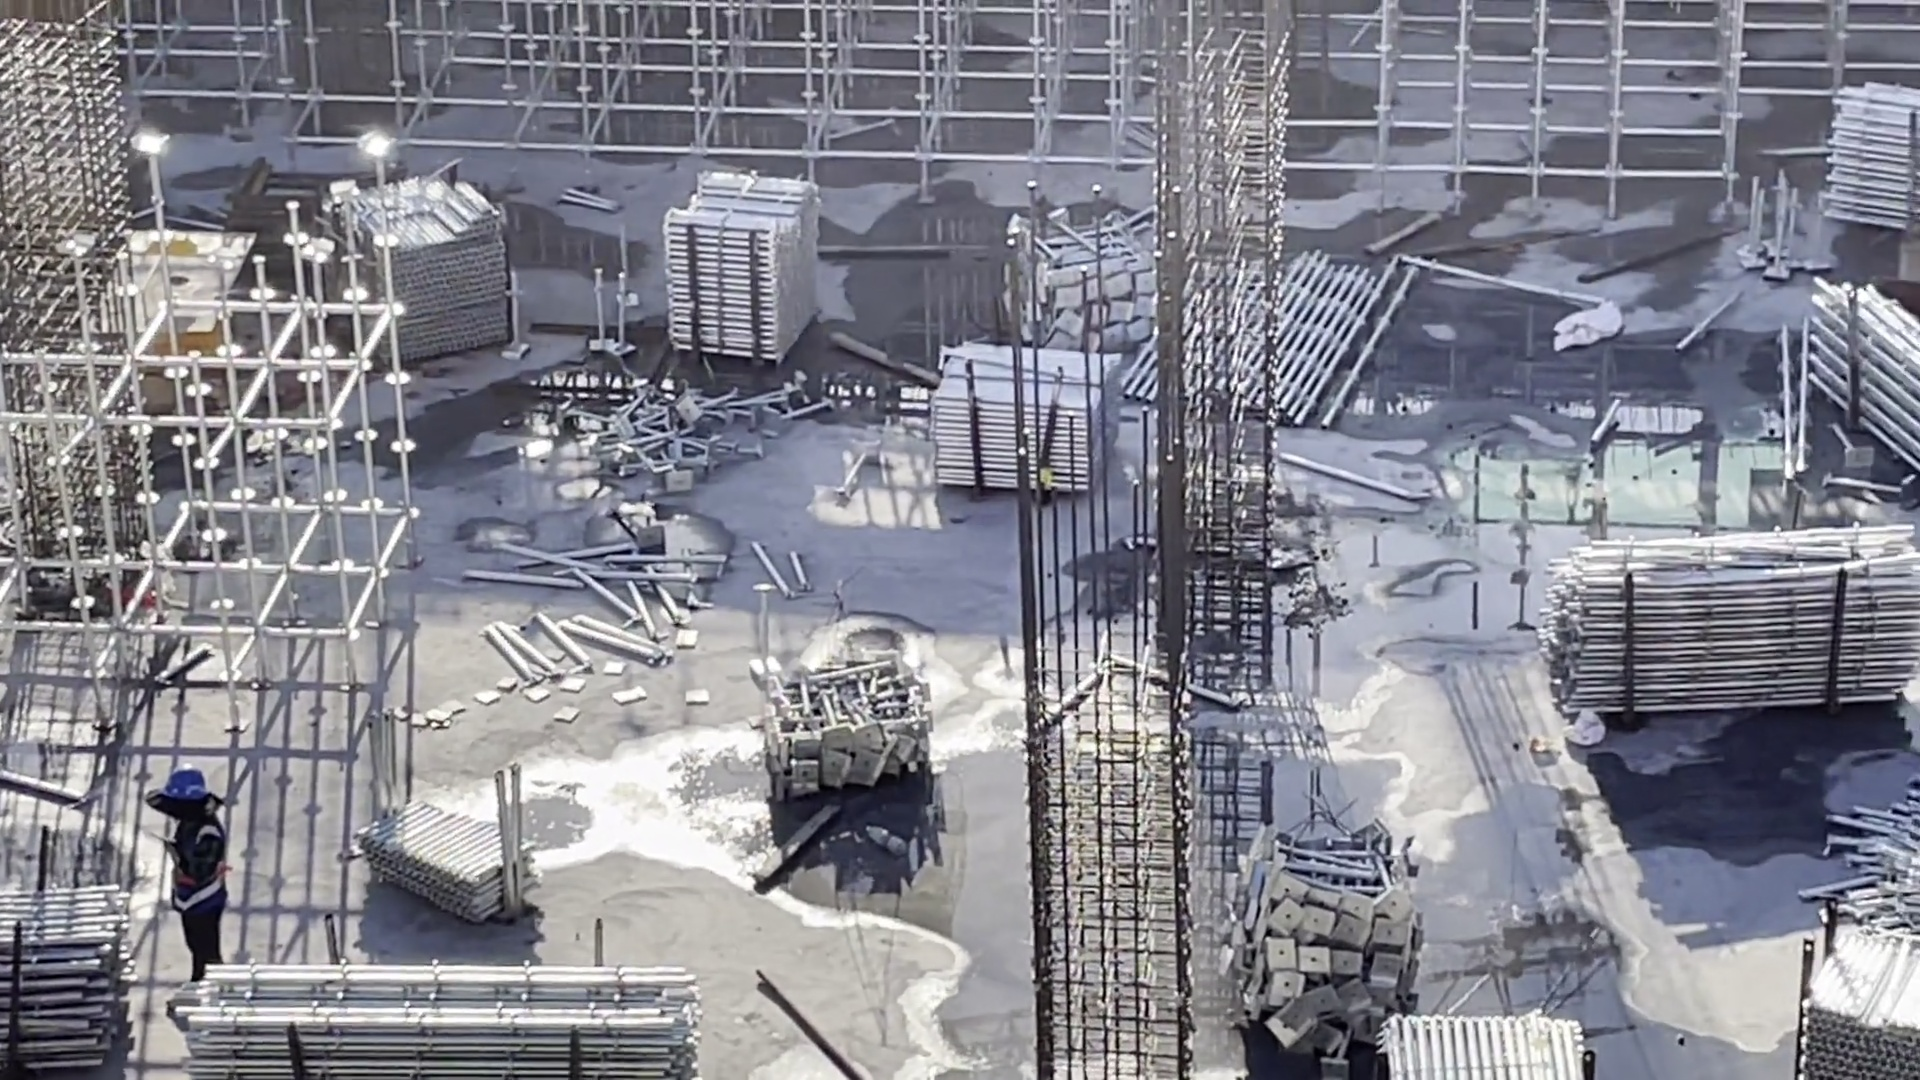cutter: (64, 208, 275, 389)
helmet: (154, 760, 218, 798)
person: (147, 764, 254, 1032)
scaffold: (1534, 524, 1920, 717), (164, 961, 705, 1080), (1254, 817, 1426, 1055), (657, 169, 815, 390), (319, 175, 516, 347), (924, 333, 1101, 498), (8, 879, 150, 1080), (359, 775, 554, 913), (752, 643, 915, 795), (1013, 227, 1182, 365), (1790, 920, 1920, 1080), (1807, 284, 1920, 455), (602, 384, 785, 479), (1385, 1005, 1601, 1080), (1818, 84, 1920, 233), (1806, 790, 1920, 895)
vest: (166, 812, 229, 911)
